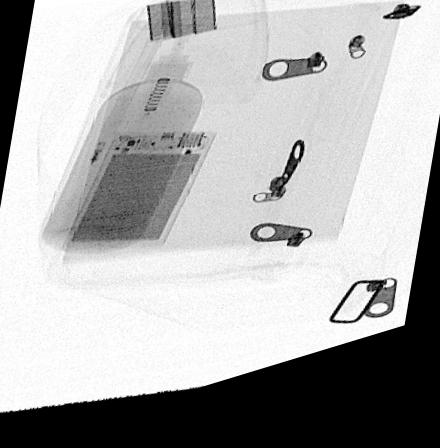Powerbank: (61, 139, 218, 254)
